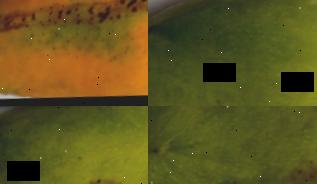Ripe: (0, 0, 148, 106)
Unripe: (148, 0, 317, 106), (148, 106, 317, 184), (0, 106, 148, 184)
